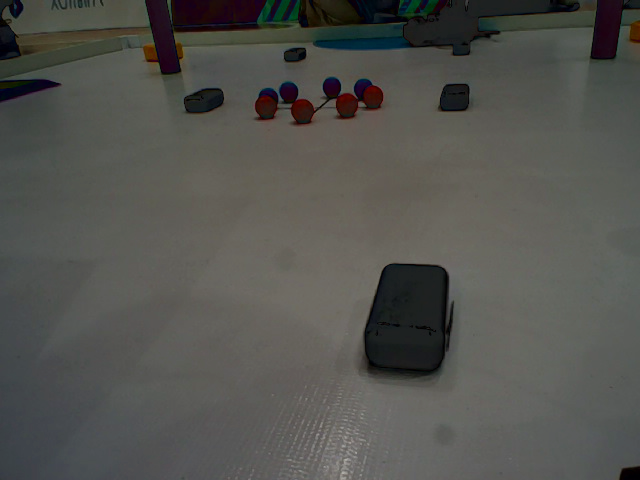black: (359, 260, 453, 369), (184, 86, 225, 114), (439, 82, 473, 107), (281, 46, 306, 61)
blue: (350, 79, 376, 100), (255, 86, 278, 104), (320, 77, 337, 96), (282, 82, 299, 99)
kuang: (1, 74, 68, 111)
red: (288, 99, 314, 123), (333, 93, 356, 119), (256, 95, 278, 118), (362, 84, 383, 107)
yellow: (141, 40, 187, 62)
zhuzi: (146, 1, 182, 74), (589, 1, 625, 61)
